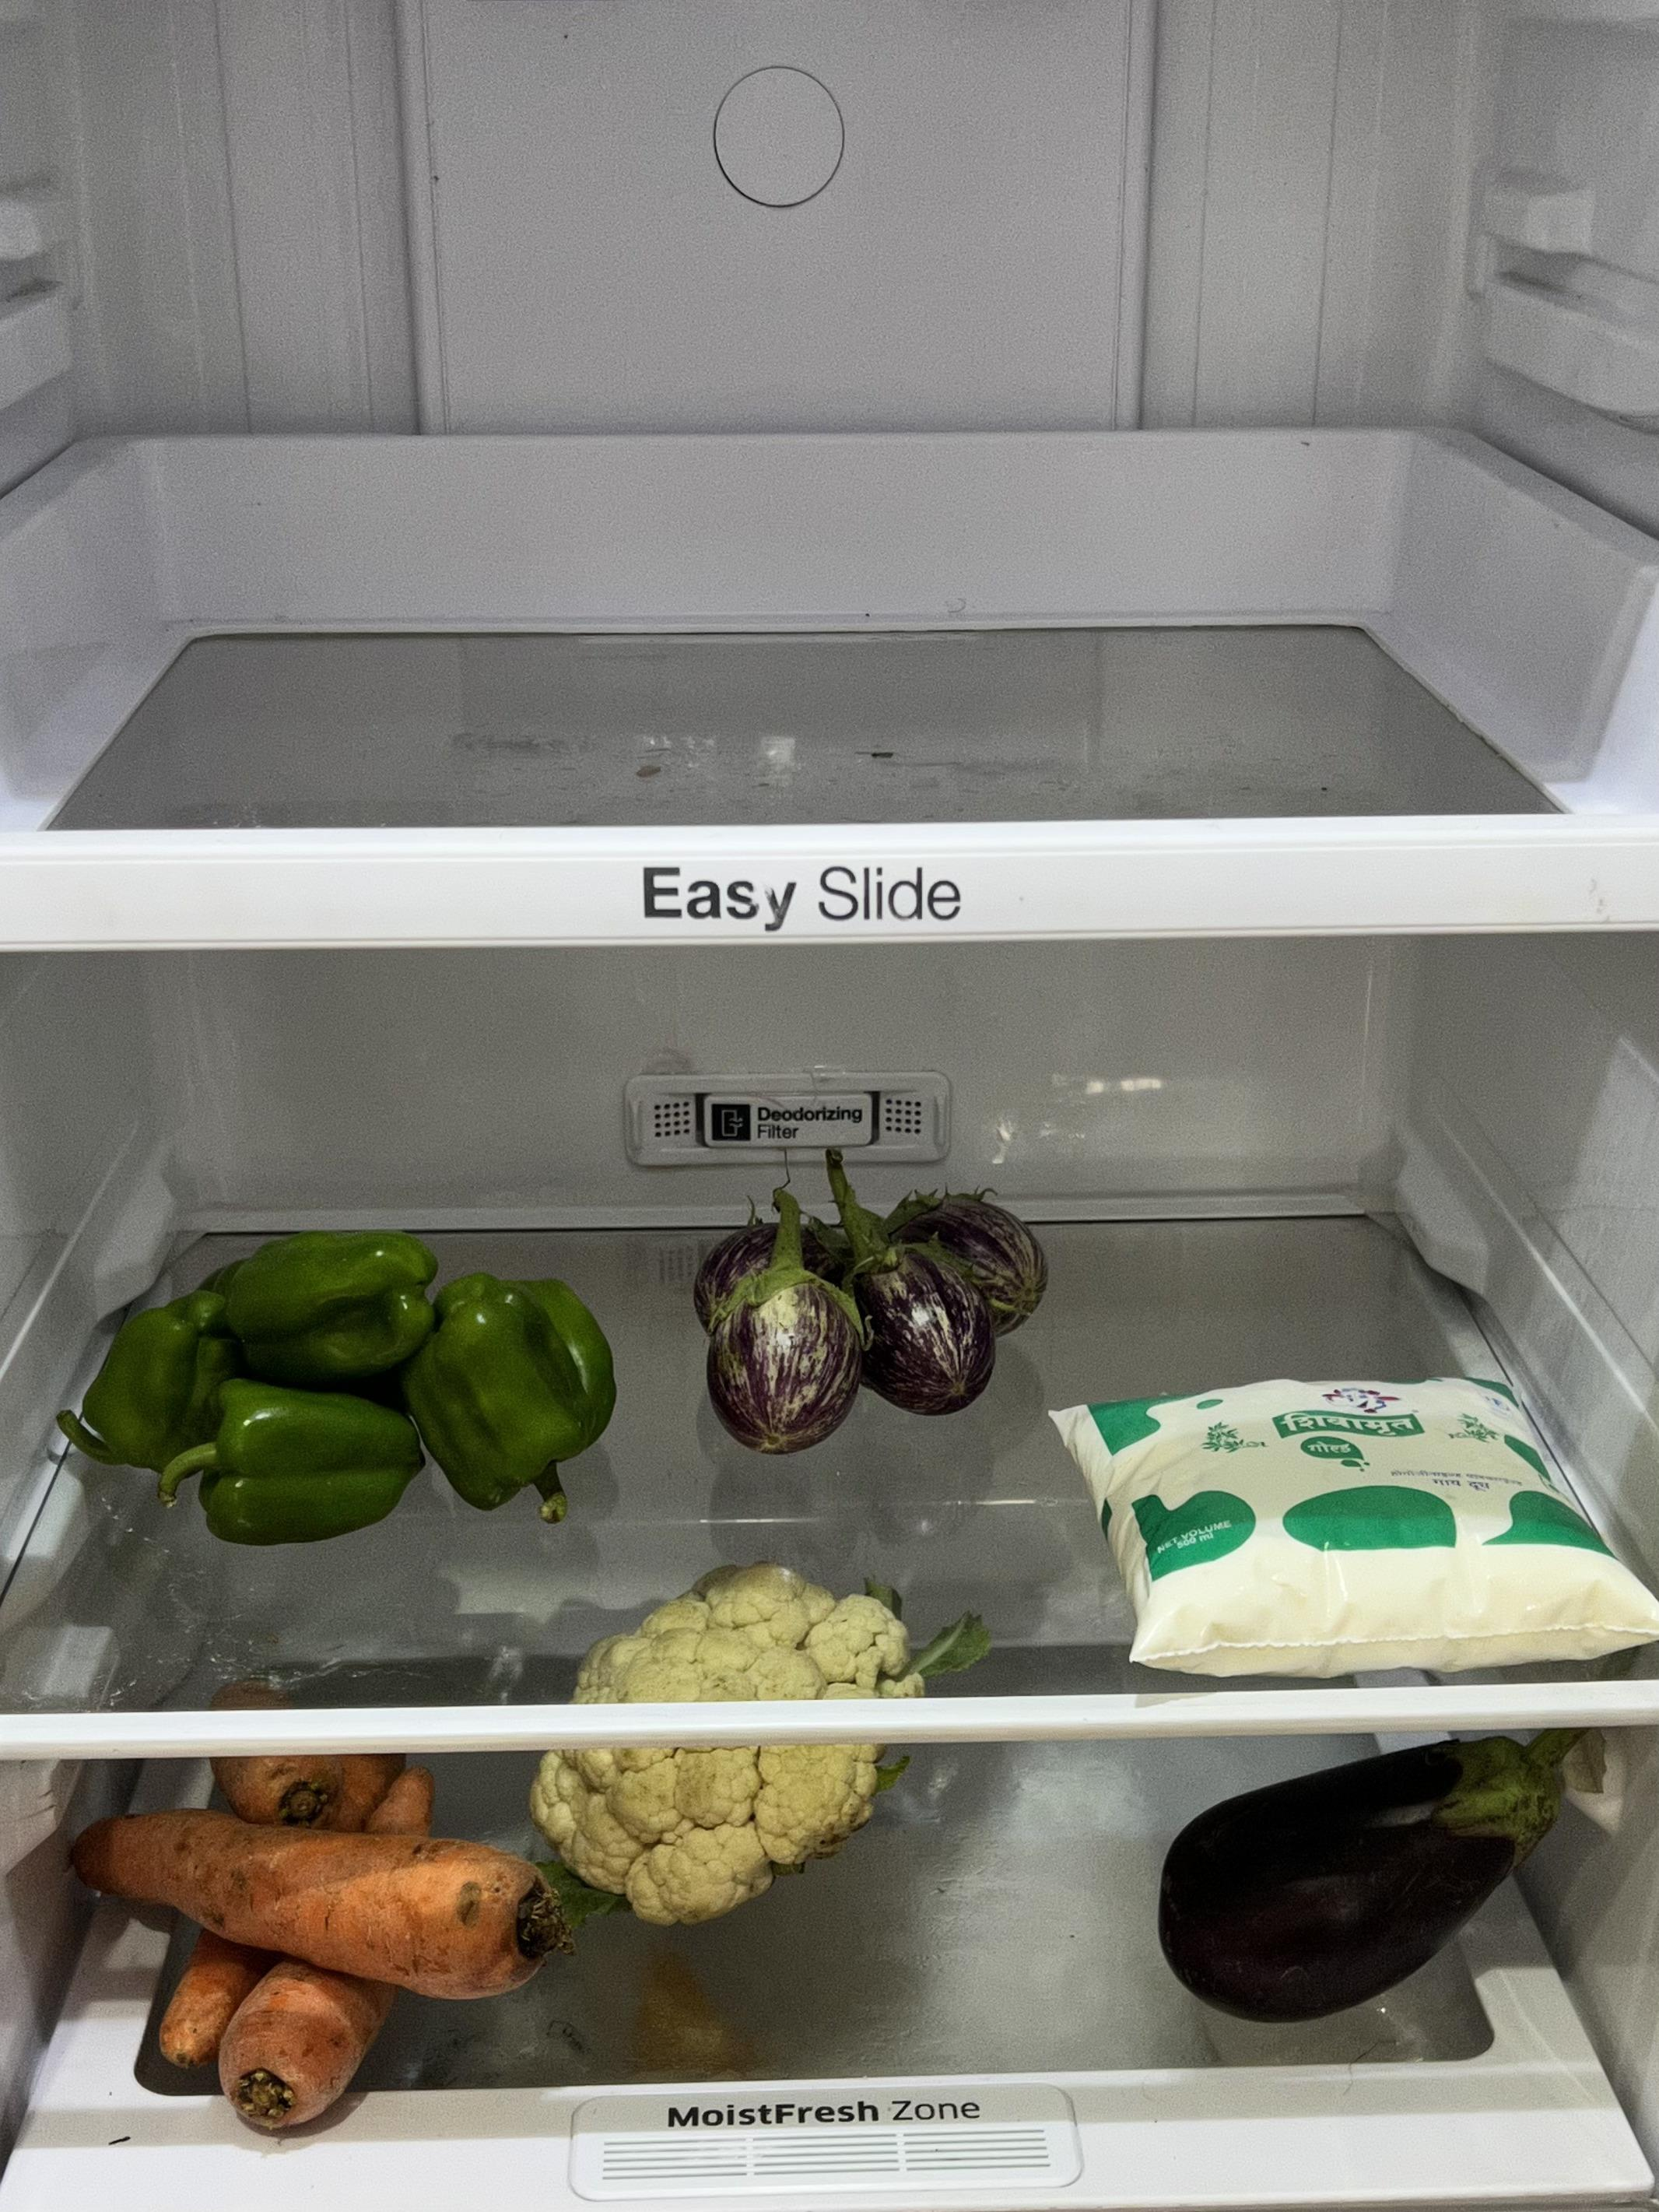bringal: (1152, 1743, 1575, 2024), (692, 1175, 1037, 1454)
capsicum: (84, 1224, 615, 1544)
carrots: (78, 1757, 549, 2127)
cauliflower: (530, 1567, 917, 1914)
milk: (1063, 1377, 1657, 1672)
